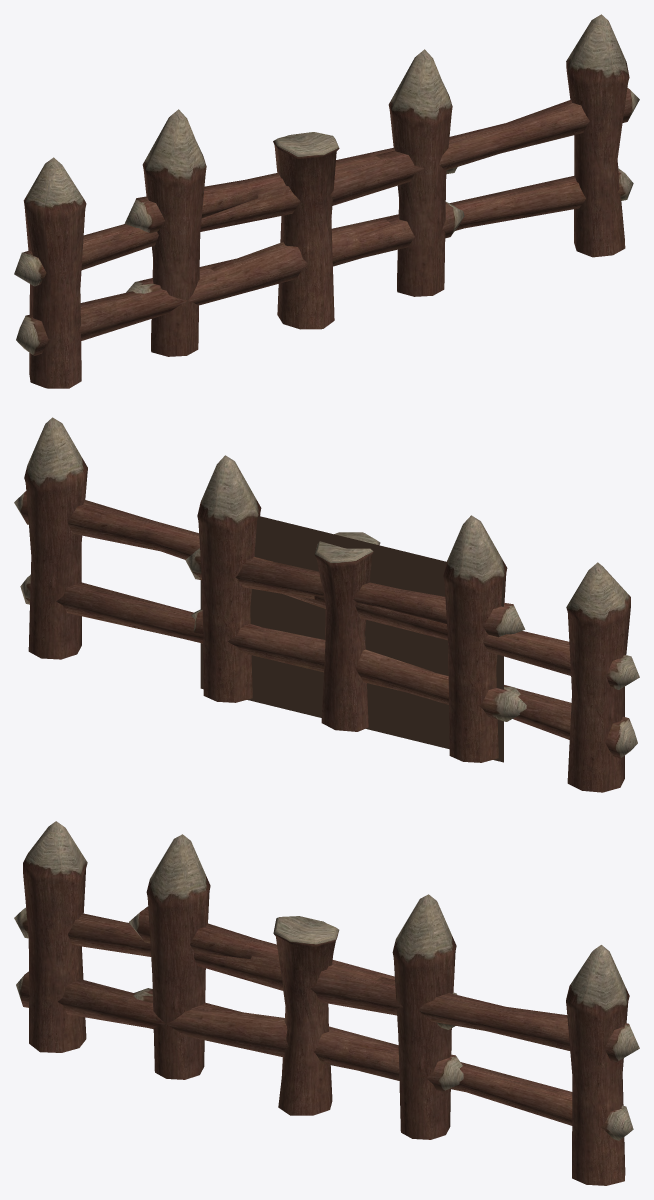
Rendered from fences.gltf.
The picture shows the model from 3 angles, top to bottom: view 1: azimuth 30°, elevation 25°; view 2: azimuth 150°, elevation 25°; view 3: azimuth 330°, elevation 25°; orthographic projection.
Parts seen in each view (by area): view 1: fence_long, fence_short; view 2: fence_long, fence_short; view 3: fence_long, fence_short.
Boxes of the visible parts, x1=… form: fence_long: x1=14, y1=14, x2=639, y2=388; fence_short: x1=124, y1=49, x2=464, y2=356; fence_long: x1=14, y1=417, x2=639, y2=792; fence_short: x1=185, y1=455, x2=526, y2=762; fence_long: x1=14, y1=821, x2=639, y2=1185; fence_short: x1=128, y1=834, x2=463, y2=1139.
Size of the model in its own units: 2.45 by 0.8964 by 0.2425.
1 material, 1 textured.
